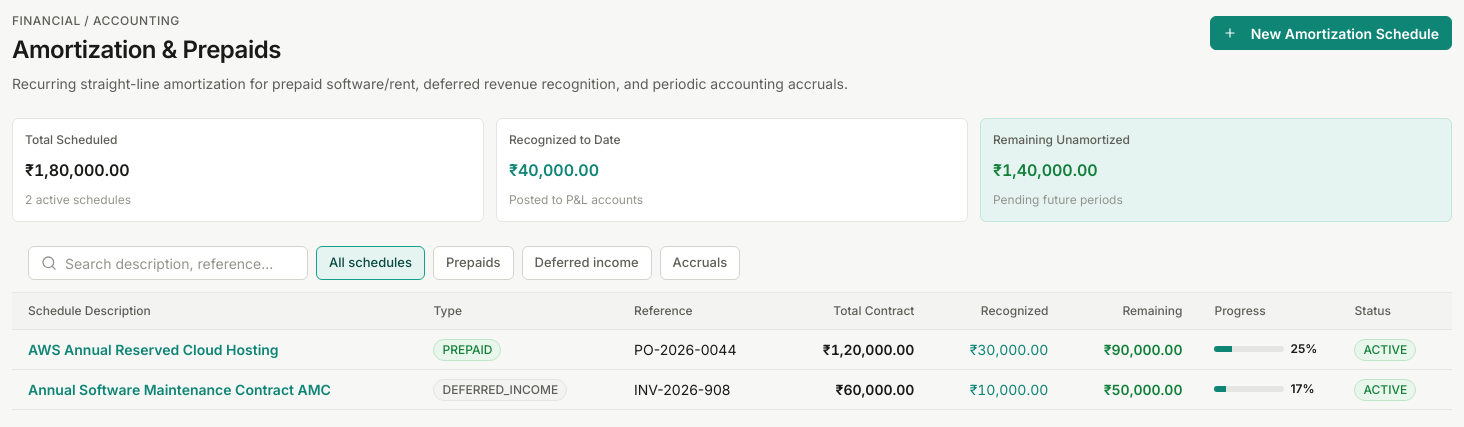
Test case: AmortizationPage › filters schedules by schedule type tabs
This screenshot has width=1464, height=427.
Check: the link "AWS Annual Reserved Cloud Hosting" is shown, box [28,341,279,358]
Check: the link "Annual Software Maintenance Contract AMC" is shown, box [28,381,331,398]
Click the button "Deferred income": x=587, y=263 [522,246,652,280]
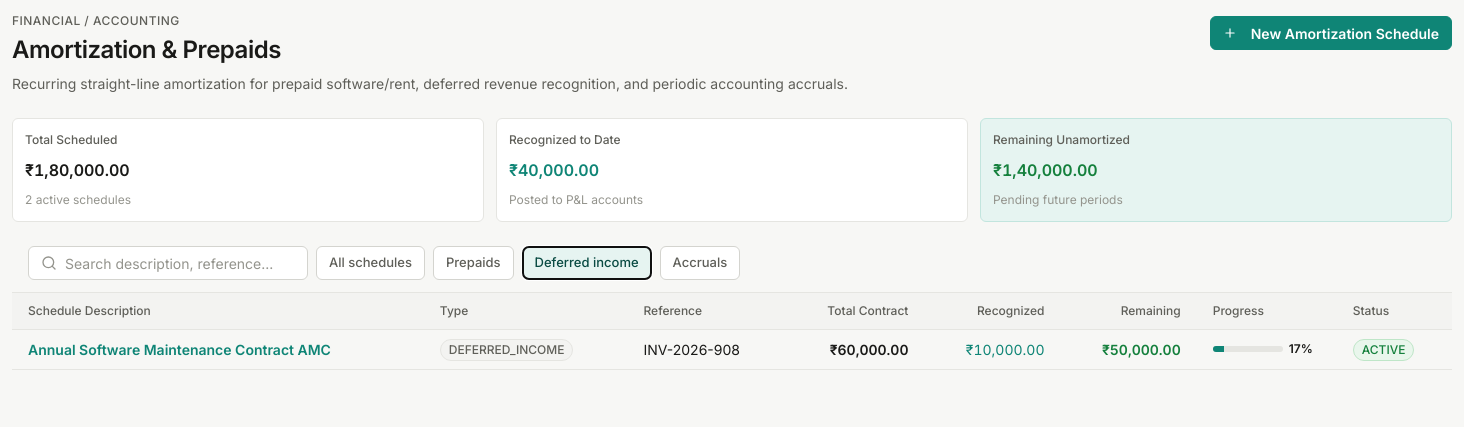
Check: the link "Annual Software Maintenance Contract AMC" is shown, box [28,341,331,358]
Check: the link "AWS Annual Reserved Cloud Hosting" is gone
